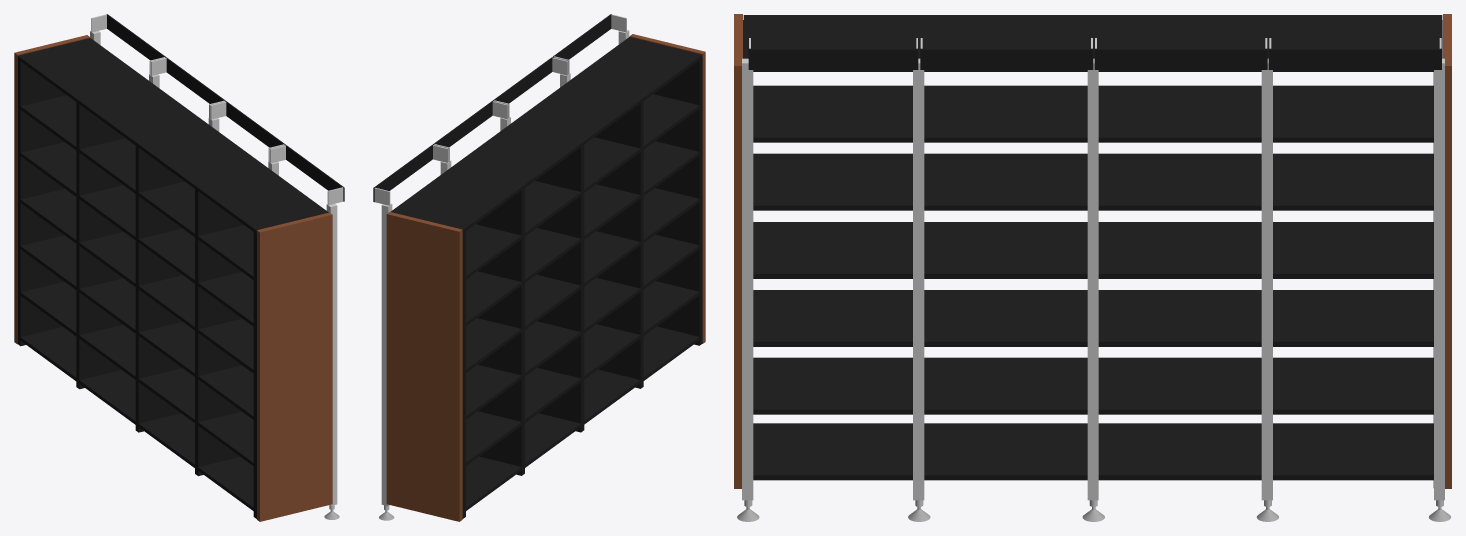
Rendered from estante0.fbx.
3 renders of one model, left to right at view 1: azimuth 30°, elevation 25°; view 2: azimuth 150°, elevation 25°; view 3: azimuth 270°, elevation 25°, orthographic. The views are drawn at different scales.
Visible parts, largest first — view 1: Cube.155; view 2: Cube.155; view 3: Cube.155.
Boxes of the visible parts, left/top/right/bottom form: Cube.155: left=14, top=14, right=344, bottom=521; Cube.155: left=373, top=14, right=705, bottom=521; Cube.155: left=734, top=14, right=1451, bottom=521.
Size of the model in its own units: 61.68 by 215 by 293.
